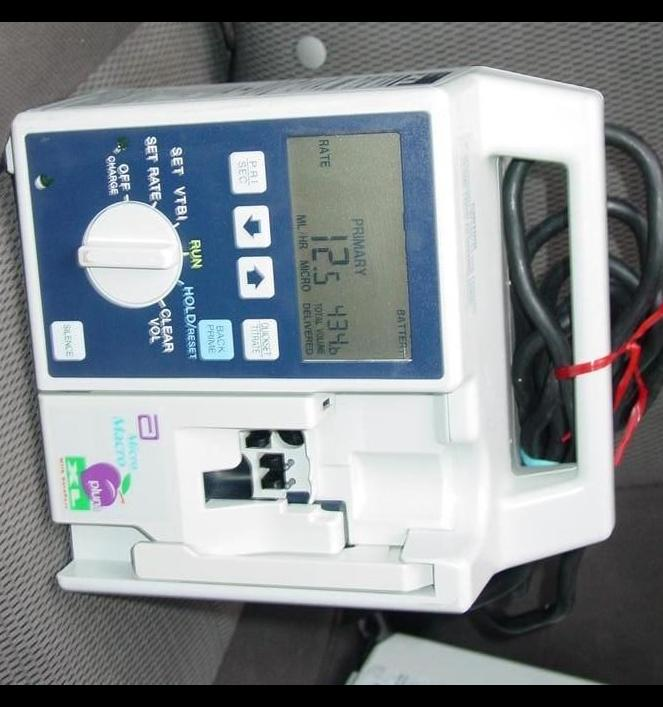plumxl1: (10, 71, 621, 615)
